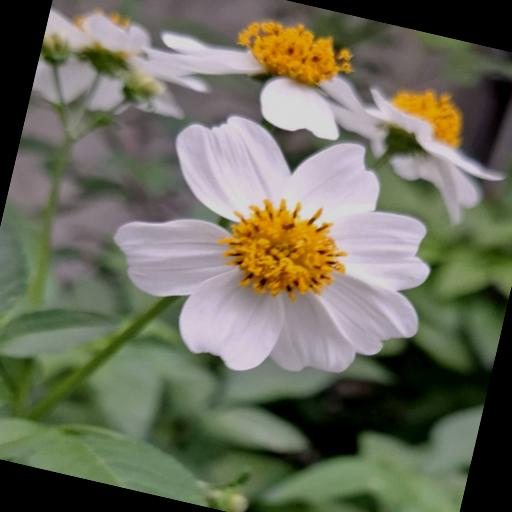Bidens: (103, 113, 454, 389)
